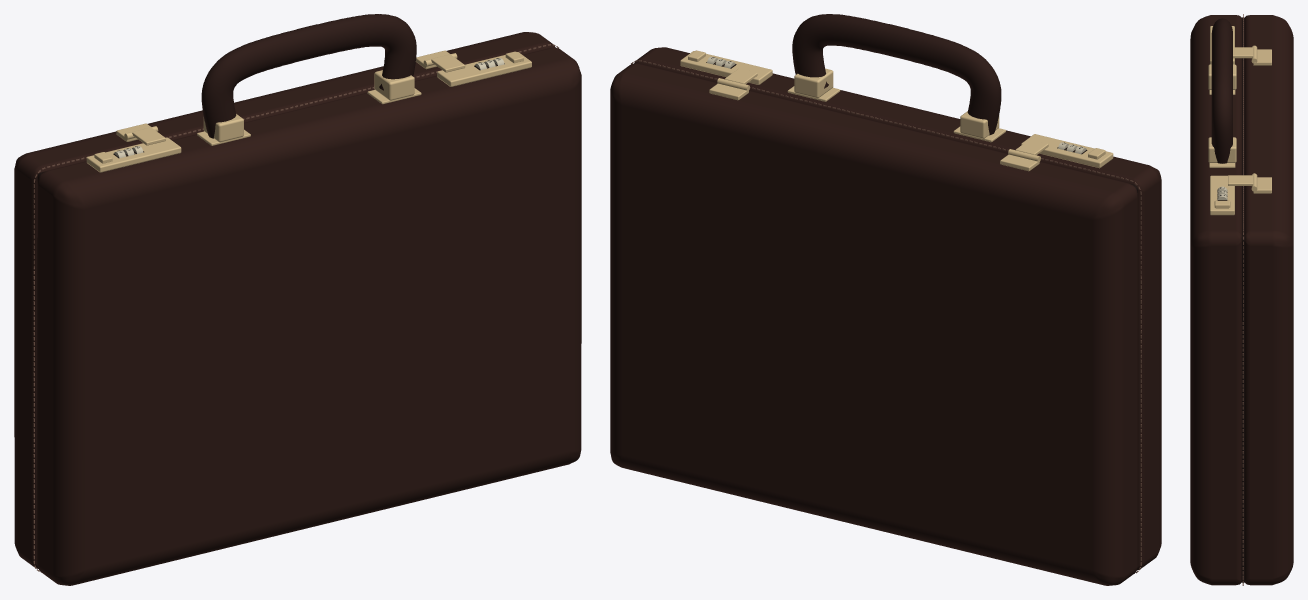
File: maletin.glb
The picture shows the model from 3 angles, left to right: view 1: azimuth 30°, elevation 25°; view 2: azimuth 150°, elevation 25°; view 3: azimuth 270°, elevation 25°; orthographic projection. The views are drawn at different scales.
Parts seen in each view (by area): view 1: Maletin; view 2: Maletin; view 3: Maletin.
Boxes of the visible parts, bbox=[...] form: Maletin: bbox=[14, 14, 581, 585]; Maletin: bbox=[610, 14, 1161, 585]; Maletin: bbox=[1190, 14, 1293, 585].
Size of the model in its own units: 0.4514 by 0.4028 by 0.0875.
